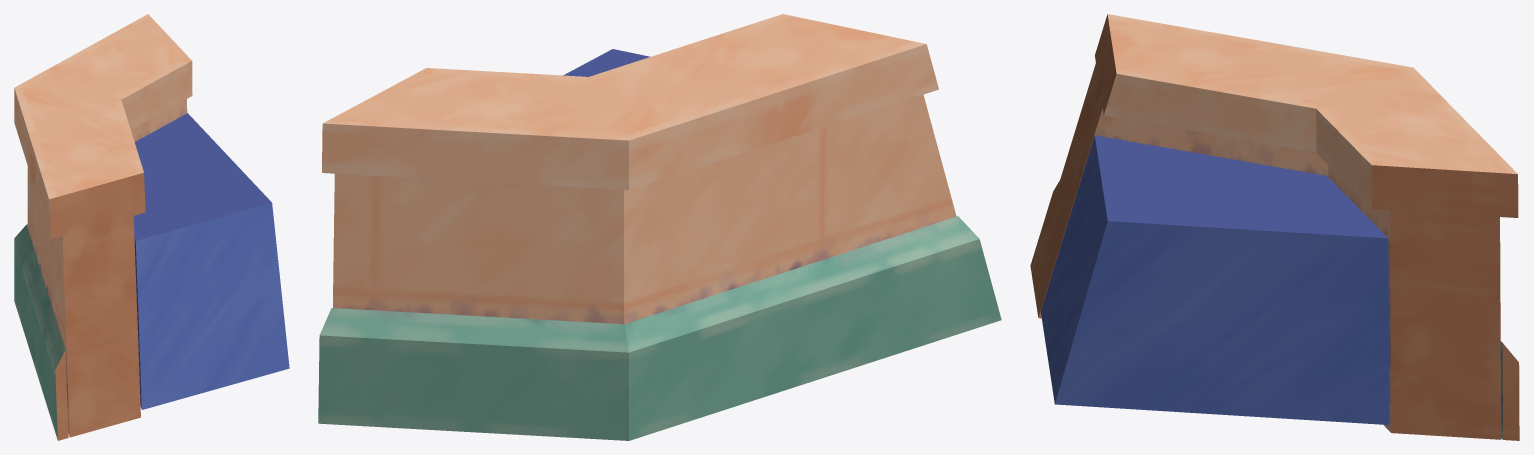
File: vat_indigo_s07.fbx
3 views of the same model, side by side, from view 1: azimuth 30°, elevation 25°; view 2: azimuth 150°, elevation 25°; view 3: azimuth 270°, elevation 25° (orthographic). The views are drawn at different scales.
Visible parts, largest first — view 1: vat_indigo_s07; view 2: vat_indigo_s07; view 3: vat_indigo_s07.
Boxes of the visible parts, x1,y1,x2,y2 form: vat_indigo_s07: (14,14,289,440); vat_indigo_s07: (318,14,1001,440); vat_indigo_s07: (1030,14,1519,440).
Bounding box in the file's own units: 2.41 × 1.7 × 2.84.
